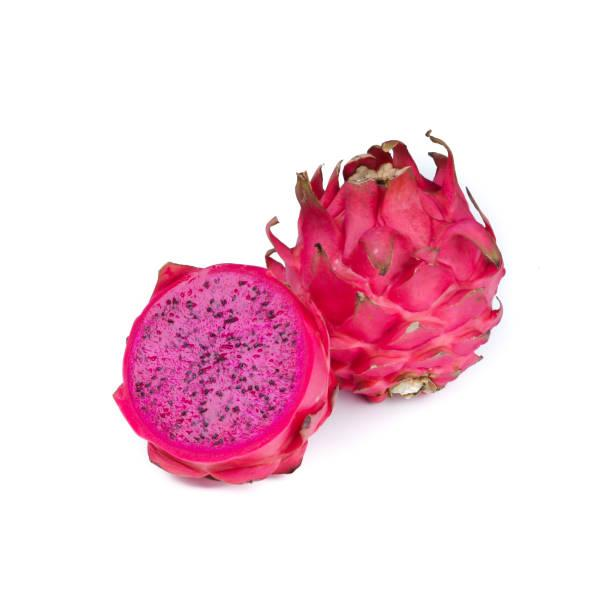dragon fruit: (269, 128, 508, 419), (84, 256, 346, 493)
